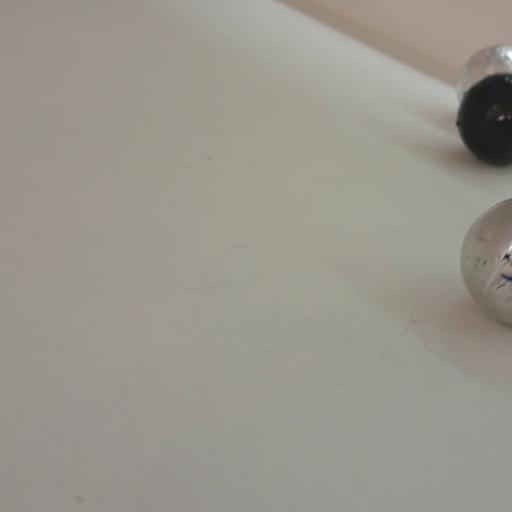alive: (458, 194, 510, 326), (458, 43, 512, 120)
dead: (453, 73, 512, 166)
